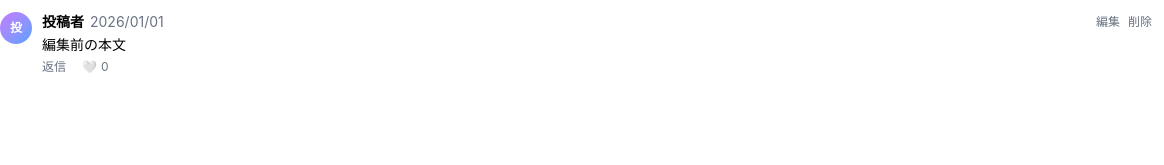
Scenario: CommentThread › 編集を押すと入力欄が開き本文が入る
Step 1. Click the button "編集" → (1108, 22), box [1096,14,1120,30]
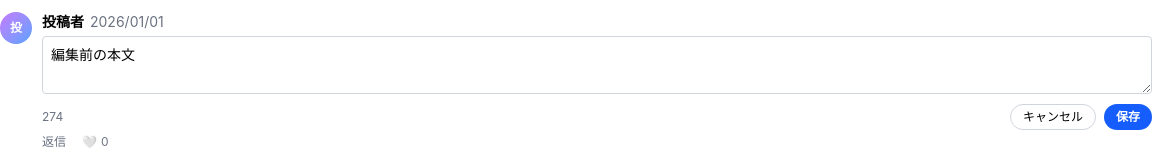
expect the text box holds "編集前の本文": met, box [42,36,1152,94]
expect the button "保存" is shown: met, box [1104,104,1152,130]
